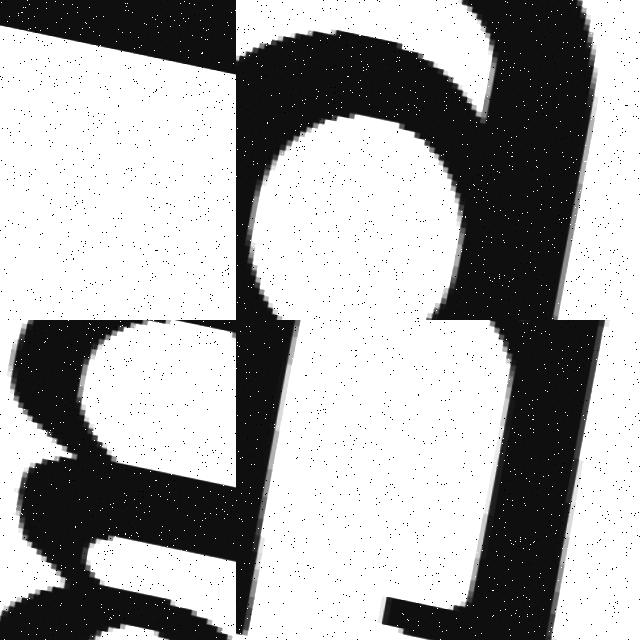7: (0, 1, 109, 320)
G: (236, 0, 636, 320), (0, 320, 236, 640)
U: (236, 320, 640, 640)
